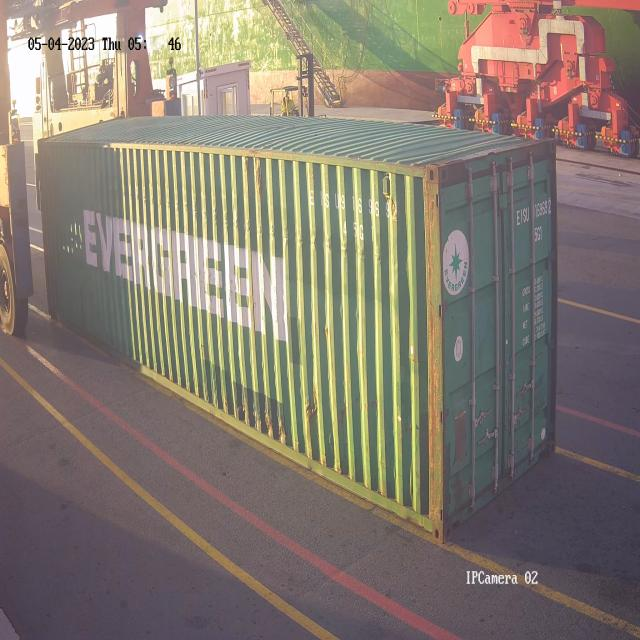dent: (126, 180, 391, 269), (240, 389, 335, 439)
